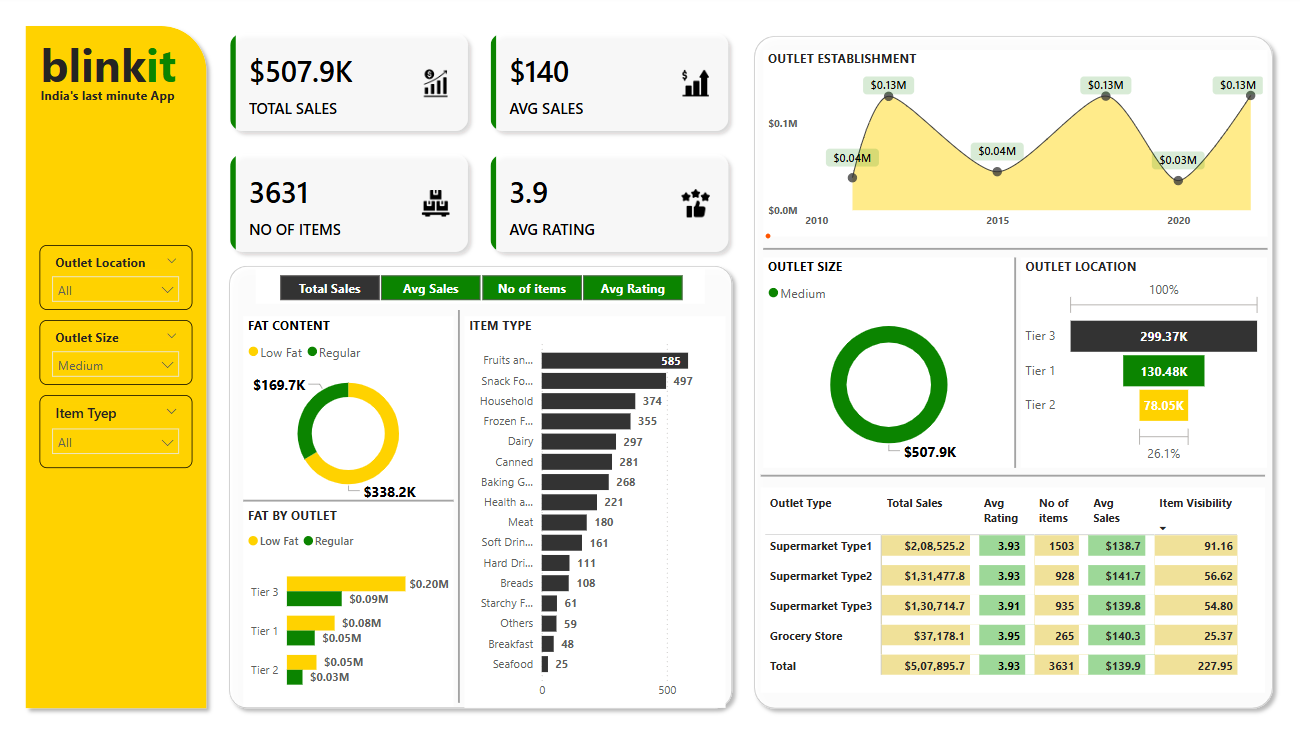

Layout of this report page (visuals, bound fields, positions):
{"tool":"powerbi","page":{"name":"Page 1","canvas":[1400,800],"ordinal":0},"visuals":[{"type":"shape","box":[21.2,24.2,212.1,750],"z":0},{"type":"textbox","box":[40.9,36.4,172.7,74.2],"z":1000},{"type":"cardVisual","fields":{"Data":["BlinkIT Grocery Data.Total Sales","BlinkIT Grocery Data.Avg Sales","BlinkIT Grocery Data.No of items","BlinkIT Grocery Data.Avg Rating"]},"box":[233.3,24.2,569.7,269.7],"z":2000},{"type":"textbox","box":[40.9,93.9,166.7,31.8],"z":3000},{"type":"shape","box":[239.4,281.8,557.6,492.4],"z":4000},{"type":"donutChart","title":"FAT CONTENT","fields":{"Y":["BlinkIT Grocery Data.Total Sales"],"Category":["BlinkIT Grocery Data.Item Fat Content"]},"box":[263.6,343.9,225.8,204.5],"z":5000},{"type":"slicer","fields":{"Values":["Metrics.Metrics"]},"box":[277.3,293.9,481.8,37.9],"z":6000},{"type":"clusteredBarChart","title":"FAT BY OUTLET","fields":{"Y":["BlinkIT Grocery Data.Total Sales"],"Category":["BlinkIT Grocery Data.Outlet Location Type"],"Series":["BlinkIT Grocery Data.Item Fat Content"]},"box":[263.6,548.5,225.8,215.2],"z":7000},{"type":"barChart","title":"ITEM TYPE","fields":{"Category":["BlinkIT Grocery Data.Item Type"],"Y":["CountNonNull(BlinkIT Grocery Data.Item Type)"]},"box":[501.5,343.9,280.3,419.7],"z":8000},{"type":"shape","box":[803,34.8,574.2,739.4],"z":9000},{"type":"lineChart","title":"OUTLET ESTABLISHMENT","fields":{"Y":["BlinkIT Grocery Data.Total Sales"],"Category":["BlinkIT Grocery Data.Outlet Establishment Year"]},"box":[821.2,59.1,540.9,200],"z":10000},{"type":"shape","box":[263.6,536.4,225.8,12.1],"z":11000},{"type":"shape","box":[821.2,125.8,540.9,292.4],"z":12000},{"type":"shape","box":[489.4,337.9,12.1,421.2],"z":13000},{"type":"donutChart","title":"OUTLET SIZE","fields":{"Y":["BlinkIT Grocery Data.Total Sales"],"Category":["BlinkIT Grocery Data.Outlet Size"]},"box":[821.2,281.8,269.7,225.8],"z":14000},{"type":"shape","box":[1086.4,281.8,12.1,225.8],"z":15000},{"type":"funnel","title":"OUTLET LOCATION","fields":{"Y":["Sum(BlinkIT Grocery Data.Sales)"],"Category":["BlinkIT Grocery Data.Outlet Location Type"]},"box":[1098.5,281.8,263.6,225.8],"z":16000},{"type":"shape","box":[819.7,375.8,540.9,280.3],"z":17000},{"type":"pivotTable","fields":{"Rows":["BlinkIT Grocery Data.Outlet Type"],"Values":["BlinkIT Grocery Data.Total Sales","BlinkIT Grocery Data.Avg Rating","BlinkIT Grocery Data.No of items","BlinkIT Grocery Data.Avg Sales","Sum(BlinkIT Grocery Data.Item Visibility)"]},"box":[819.7,528.8,540.9,219.7],"z":18000},{"type":"slicer","fields":{"Values":["BlinkIT Grocery Data.Outlet Location Type"]},"box":[45.5,268.2,163.6,69.7],"z":19000},{"type":"slicer","fields":{"Values":["BlinkIT Grocery Data.Outlet Size"]},"box":[45.5,348.5,163.6,69.7],"z":20000},{"type":"slicer","fields":{"Values":["BlinkIT Grocery Data.Item Type"]},"box":[45.5,428.8,163.6,78.8],"z":21000}]}

Visuals, with their boxes in screenshot pixels (x1, y1, x2, y2), scaled from the page's 1400x800 canvas onto the 1300x741 screenshot:
shape: x1=20, y1=22, x2=217, y2=717
textbox: x1=38, y1=34, x2=198, y2=102
cardVisual - BlinkIT Grocery Data.Total Sales x BlinkIT Grocery Data.Avg Sales: x1=217, y1=22, x2=746, y2=272
textbox: x1=38, y1=87, x2=193, y2=116
shape: x1=222, y1=261, x2=740, y2=717
"FAT CONTENT" donutChart: x1=245, y1=319, x2=454, y2=508
slicer - Metrics.Metrics: x1=257, y1=272, x2=705, y2=307
"FAT BY OUTLET" clusteredBarChart: x1=245, y1=508, x2=454, y2=707
"ITEM TYPE" barChart: x1=466, y1=319, x2=726, y2=707
shape: x1=746, y1=32, x2=1279, y2=717
"OUTLET ESTABLISHMENT" lineChart: x1=763, y1=55, x2=1265, y2=240
shape: x1=245, y1=497, x2=454, y2=508
shape: x1=763, y1=117, x2=1265, y2=387
shape: x1=454, y1=313, x2=466, y2=703
"OUTLET SIZE" donutChart: x1=763, y1=261, x2=1013, y2=470
shape: x1=1009, y1=261, x2=1020, y2=470
"OUTLET LOCATION" funnel: x1=1020, y1=261, x2=1265, y2=470
shape: x1=761, y1=348, x2=1263, y2=608
pivotTable - BlinkIT Grocery Data.Outlet Type x BlinkIT Grocery Data.Total Sales: x1=761, y1=490, x2=1263, y2=693
slicer - BlinkIT Grocery Data.Outlet Location Type: x1=42, y1=248, x2=194, y2=313
slicer - BlinkIT Grocery Data.Outlet Size: x1=42, y1=323, x2=194, y2=387
slicer - BlinkIT Grocery Data.Item Type: x1=42, y1=397, x2=194, y2=470
